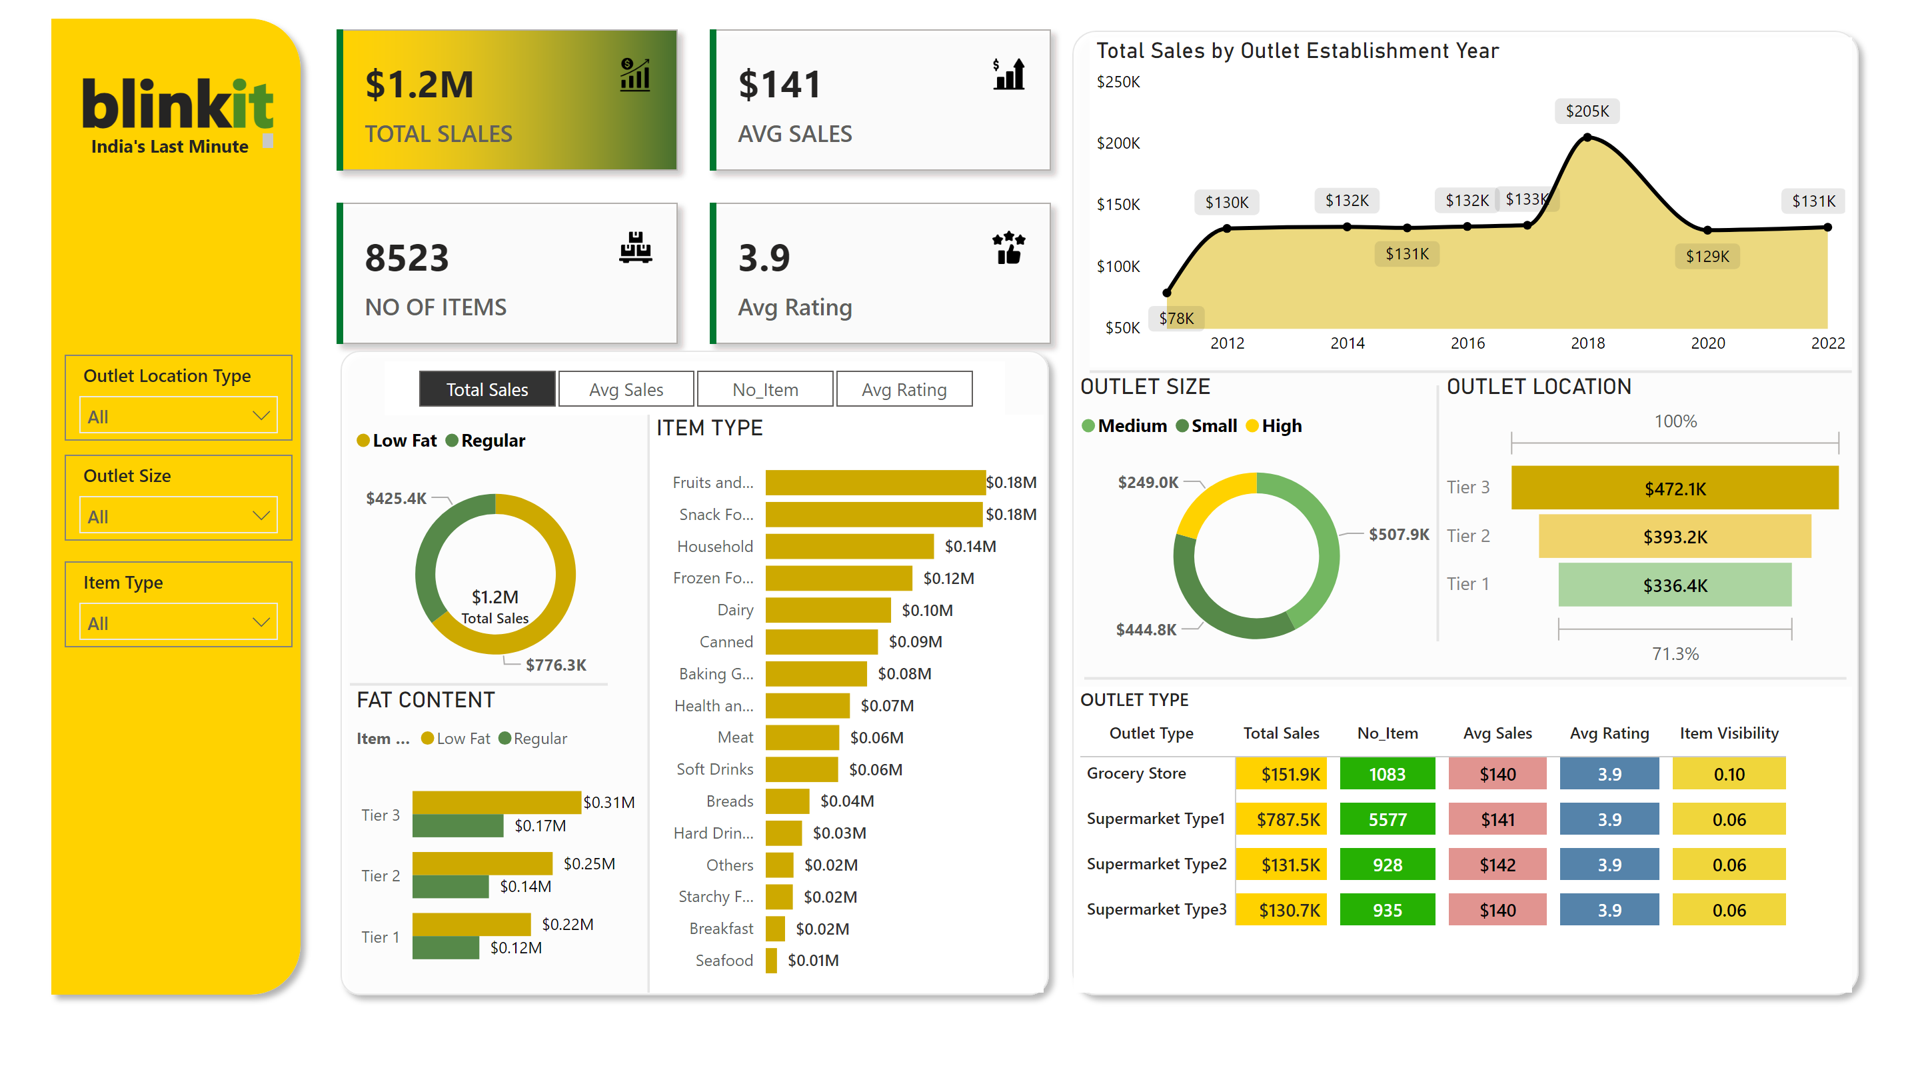

Layout of this report page (visuals, bound fields, positions):
{"tool":"powerbi","page":{"name":"Home","canvas":[1400,800],"ordinal":0},"visuals":[{"type":"shape","box":[10,0,205,750],"z":0},{"type":"textbox","box":[25.5,33,174.1,87.1],"z":1000},{"type":"textbox","box":[33,90.1,157.6,30],"z":2000},{"type":"cardVisual","fields":{"Data":["BlinkIT Grocery Data.Total Sales","BlinkIT Grocery Data.Avg Sales","BlinkIT Grocery Data.No_Item","BlinkIT Grocery Data.Avg Rating"]},"box":[216.1,0,570.3,270.2],"z":3000},{"type":"shape","box":[226.6,249.1,549.3,501.3],"z":4000},{"type":"donutChart","title":"FAT CONTENT","fields":{"Y":["BlinkIT Grocery Data.Total Sales"],"Category":["BlinkIT Grocery Data.Item Fat Content"]},"box":[241.6,286.7,220.6,229.6],"z":5000},{"type":"cardVisual","fields":{"Data":["BlinkIT Grocery Data.Total Sales"]},"box":[298.7,415.7,106.6,60],"z":6000},{"type":"clusteredBarChart","title":"FAT CONTENT","fields":{"Y":["BlinkIT Grocery Data.Total Sales"],"Category":["BlinkIT Grocery Data.Outlet Location Type"],"Series":["BlinkIT Grocery Data.Item Fat Content"]},"box":[243.1,510.3,219.1,229.6],"z":7000},{"type":"slicer","fields":{"Values":["Metrics 2.Metrics"]},"box":[268.7,265.7,465.3,40.5],"z":8000},{"type":"shape","box":[243.1,499.8,193.6,16.5],"z":9000},{"type":"shape","box":[462.3,306.2,10.5,433.7],"z":10000},{"type":"barChart","title":"ITEM TYPE","fields":{"Y":["BlinkIT Grocery Data.Total Sales"],"Category":["BlinkIT Grocery Data.Item Type"]},"box":[468.3,306.2,295.7,433.7],"z":11000},{"type":"shape","box":[775.9,9,607.8,741.4],"z":12000},{"type":"lineChart","fields":{"Category":["BlinkIT Grocery Data.Outlet Establishment Year"],"Y":["BlinkIT Grocery Data.Total Sales"]},"box":[798.5,22.5,571.8,247.6],"z":13000},{"type":"shape","box":[798.5,261.2,571.8,25.5],"z":14000},{"type":"donutChart","title":"  OUTLET SIZE","fields":{"Y":["BlinkIT Grocery Data.Total Sales"],"Category":["BlinkIT Grocery Data.Outlet Size"]},"box":[786.5,274.7,274.7,225.1],"z":15000},{"type":"funnel","title":"OUTLET LOCATION","fields":{"Category":["BlinkIT Grocery Data.Outlet Location Type"],"Y":["BlinkIT Grocery Data.Total Sales"]},"box":[1061.1,274.7,309.2,225.1],"z":16000},{"type":"shape","box":[1056.6,283.7,4.5,192.1],"z":17000},{"type":"shape","box":[794,490.8,571.8,25.5],"z":18000},{"type":"pivotTable","title":"OUTLET TYPE","fields":{"Rows":["BlinkIT Grocery Data.Outlet Type"],"Values":["BlinkIT Grocery Data.Total Sales","BlinkIT Grocery Data.No_Item","BlinkIT Grocery Data.Avg Sales","BlinkIT Grocery Data.Avg Rating","Avg(BlinkIT Grocery Data.Item Visibility)"]},"box":[786.5,510.3,583.8,229.6],"z":19000},{"type":"slicer","fields":{"Values":["BlinkIT Grocery Data.Outlet Location Type"]},"box":[28.5,261.2,171.1,64.5],"z":20000},{"type":"slicer","fields":{"Values":["BlinkIT Grocery Data.Outlet Size"]},"box":[28.5,336.2,171.1,64.5],"z":21000},{"type":"slicer","fields":{"Values":["BlinkIT Grocery Data.Item Type"]},"box":[28.5,415.7,171.1,64.5],"z":22000}]}

Visuals, with their boxes in screenshot pixels (x1, y1, x2, y2), scaled from the page's 1400x800 canvas onto the 1920x1080 screenshot:
shape: select_region(14, 0, 295, 1013)
textbox: select_region(35, 45, 274, 162)
textbox: select_region(45, 122, 261, 162)
cardVisual - BlinkIT Grocery Data.Total Sales x BlinkIT Grocery Data.Avg Sales: select_region(296, 0, 1078, 365)
shape: select_region(311, 336, 1064, 1013)
"FAT CONTENT" donutChart: select_region(331, 387, 634, 697)
cardVisual - BlinkIT Grocery Data.Total Sales: select_region(410, 561, 556, 642)
"FAT CONTENT" clusteredBarChart: select_region(333, 689, 634, 999)
slicer - Metrics 2.Metrics: select_region(369, 359, 1007, 413)
shape: select_region(333, 675, 599, 697)
shape: select_region(634, 413, 648, 999)
"ITEM TYPE" barChart: select_region(642, 413, 1048, 999)
shape: select_region(1064, 12, 1898, 1013)
lineChart - BlinkIT Grocery Data.Outlet Establishment Year x BlinkIT Grocery Data.Total Sales: select_region(1095, 30, 1879, 365)
shape: select_region(1095, 353, 1879, 387)
"  OUTLET SIZE" donutChart: select_region(1079, 371, 1455, 675)
"OUTLET LOCATION" funnel: select_region(1455, 371, 1879, 675)
shape: select_region(1449, 383, 1455, 642)
shape: select_region(1089, 663, 1873, 697)
"OUTLET TYPE" pivotTable: select_region(1079, 689, 1879, 999)
slicer - BlinkIT Grocery Data.Outlet Location Type: select_region(39, 353, 274, 440)
slicer - BlinkIT Grocery Data.Outlet Size: select_region(39, 454, 274, 541)
slicer - BlinkIT Grocery Data.Item Type: select_region(39, 561, 274, 648)
